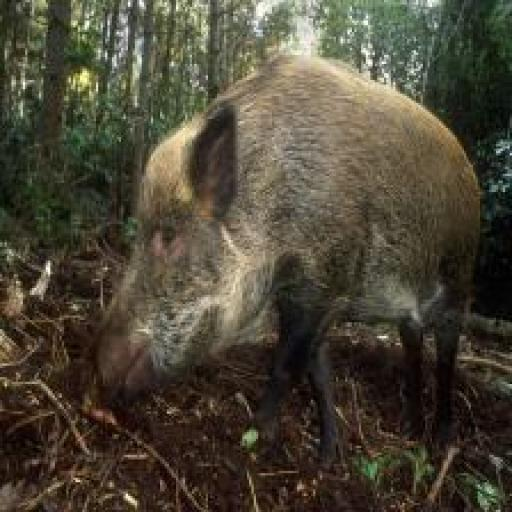Pig: (87, 50, 481, 468)
